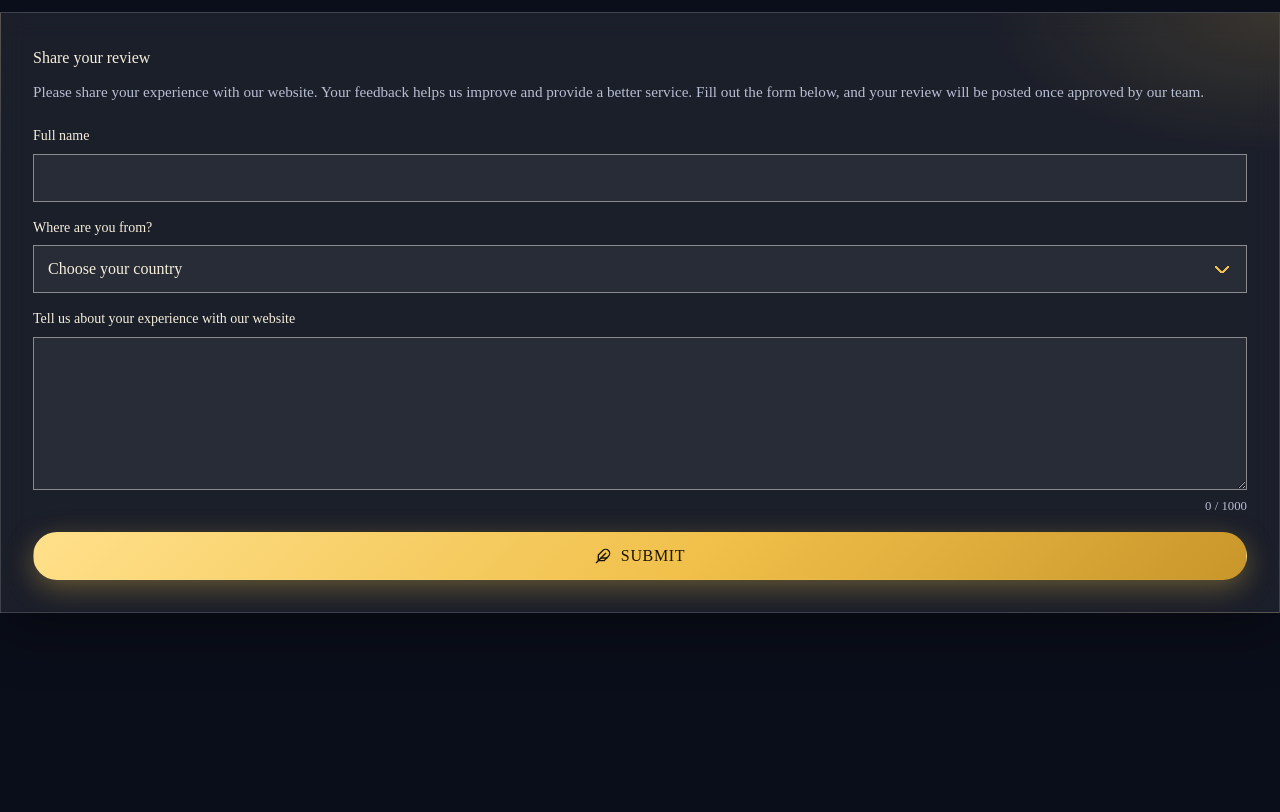
Test: ReviewForm › explains a rate limit and keeps what the visitor wrote
Type " Maria " into the field labelled "Full name" at (640, 178), box [33, 154, 1247, 202]
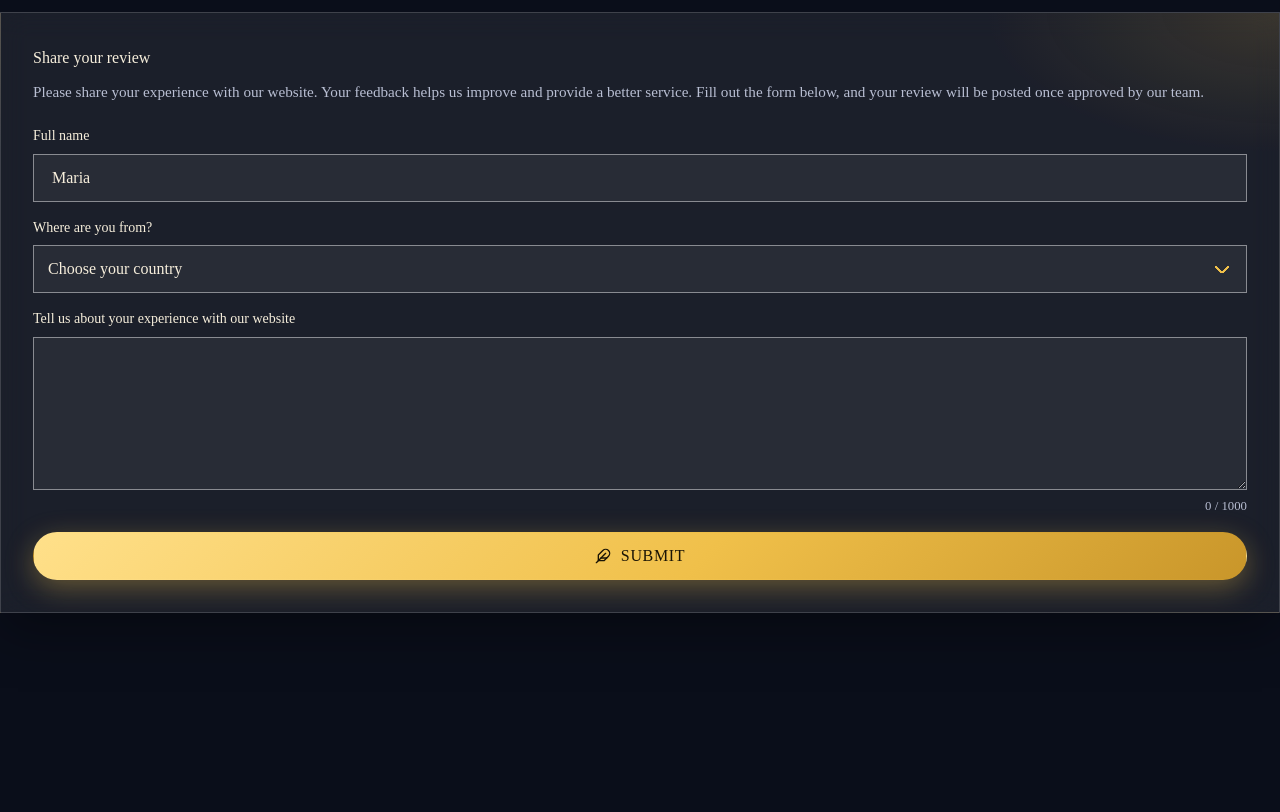
Select "Italy" in the dropdown labelled "Where are you from?" at (640, 269), box [33, 245, 1247, 293]
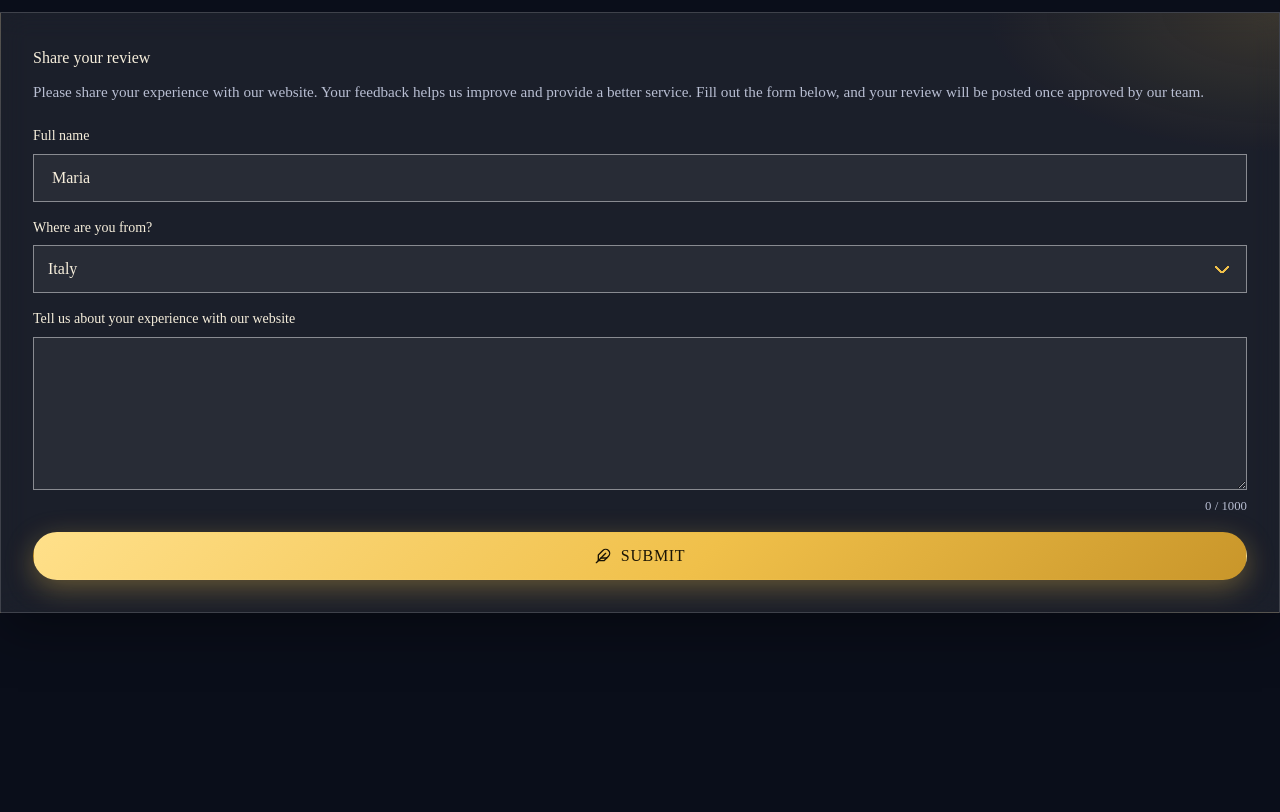
Type "Thank you!" into the text box labelled "Tell us about your experience with our website" at (640, 414), box [33, 336, 1247, 490]
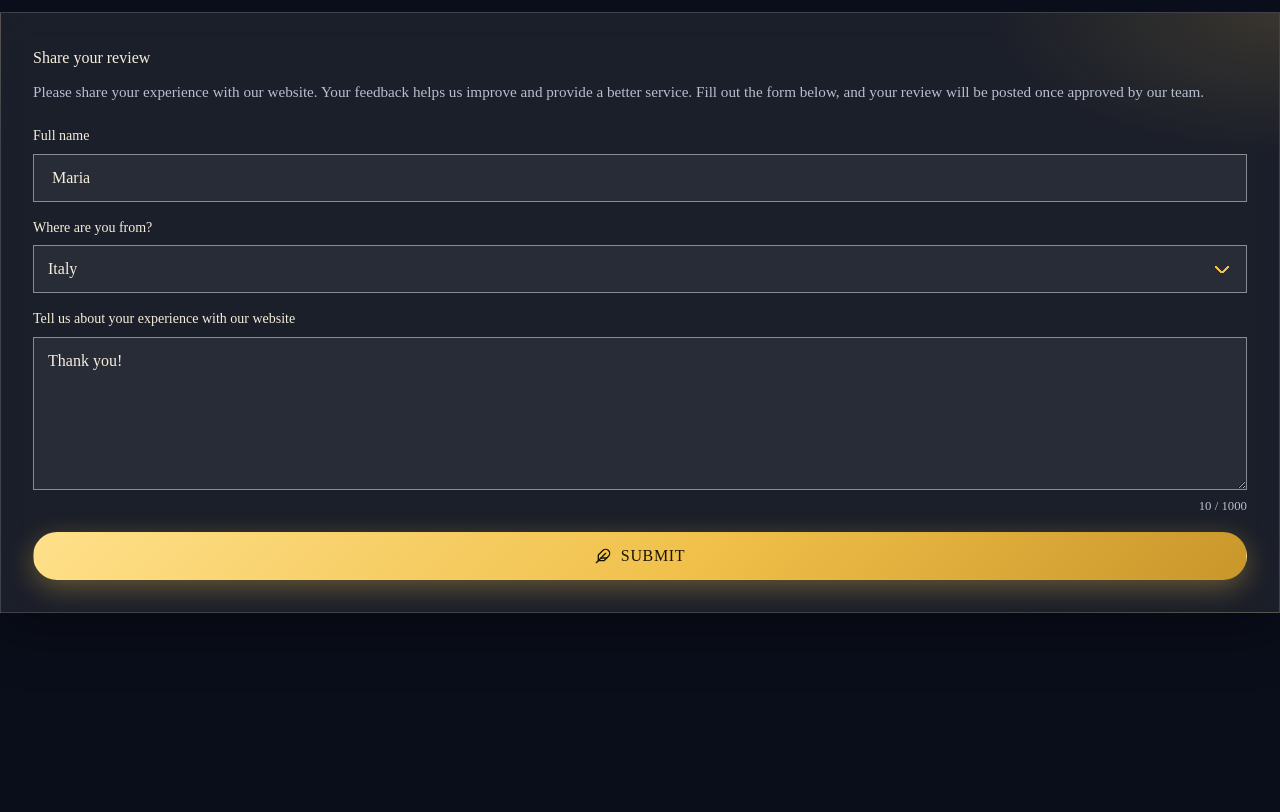
Click the button "Submit" at (640, 556), box [33, 532, 1247, 580]
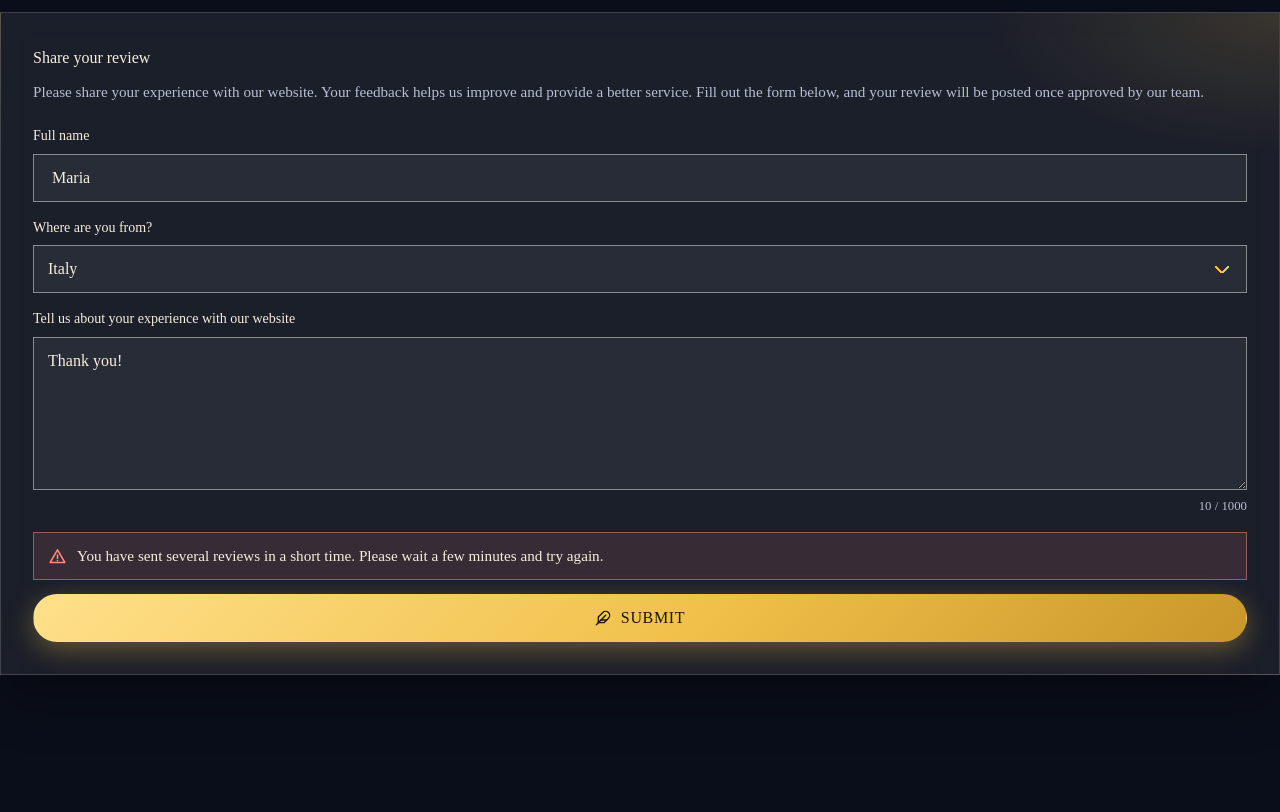
Check: the message shows "You have sent several reviews in a short time. Please wait a few minutes and try again.", box [77, 547, 604, 564]
